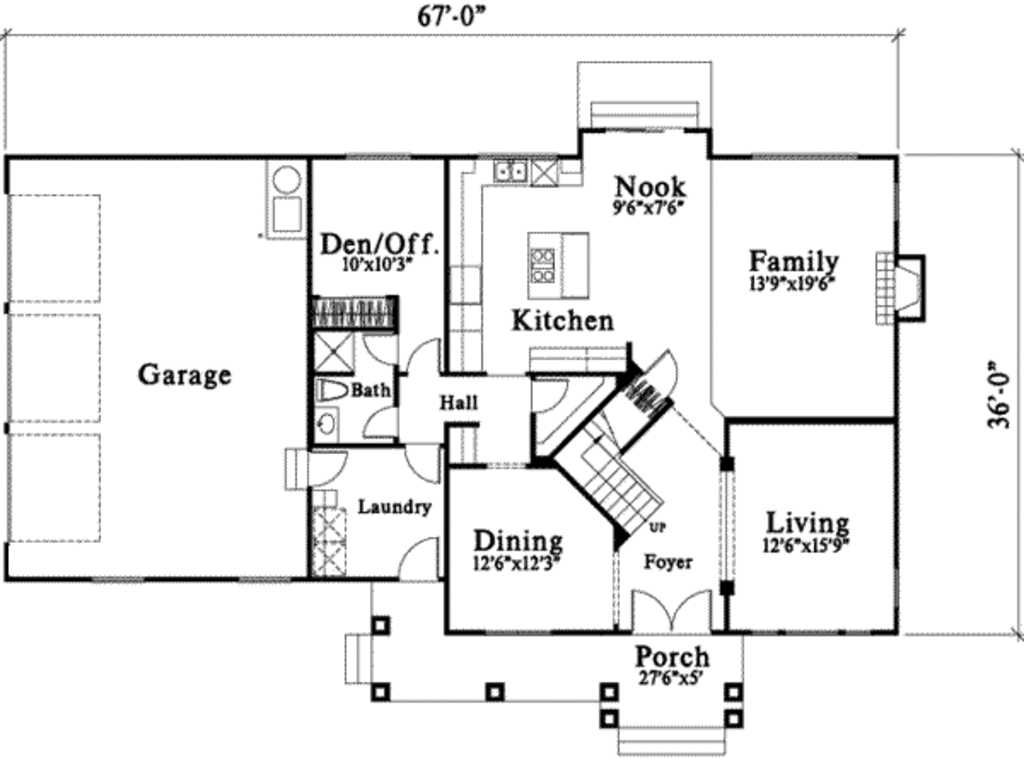door: (629, 588, 725, 638), (393, 528, 441, 581), (301, 445, 357, 488), (646, 341, 686, 396), (404, 337, 443, 385), (525, 377, 573, 416), (362, 400, 402, 443), (403, 443, 441, 488), (364, 330, 401, 375)
kitchen_bar: (509, 215, 616, 310)
large_sink: (311, 376, 353, 405)
small_sink: (311, 408, 349, 445)
stairs: (561, 396, 684, 548)
twin_sink: (495, 161, 529, 188)
window: (749, 147, 865, 163), (345, 150, 421, 163)
